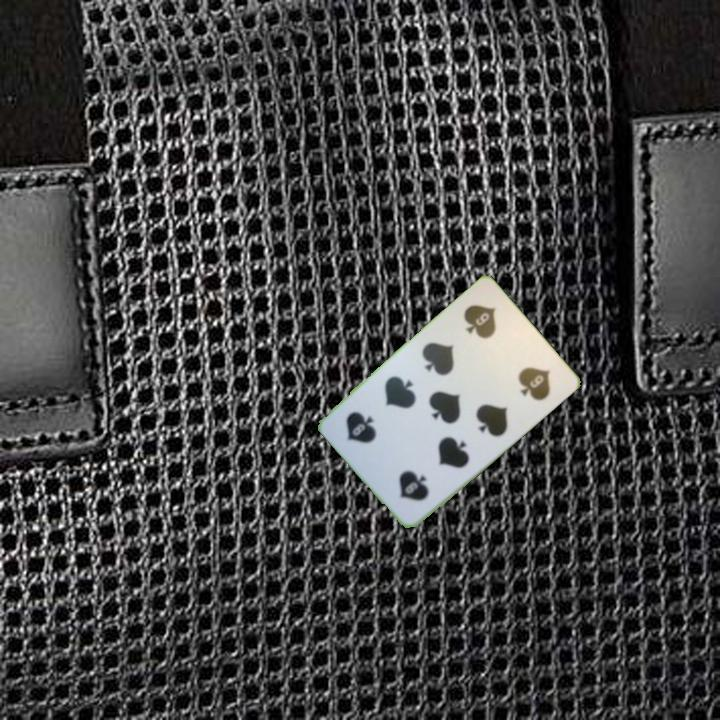s_9.png: (367, 433, 453, 520), (443, 287, 528, 373)
